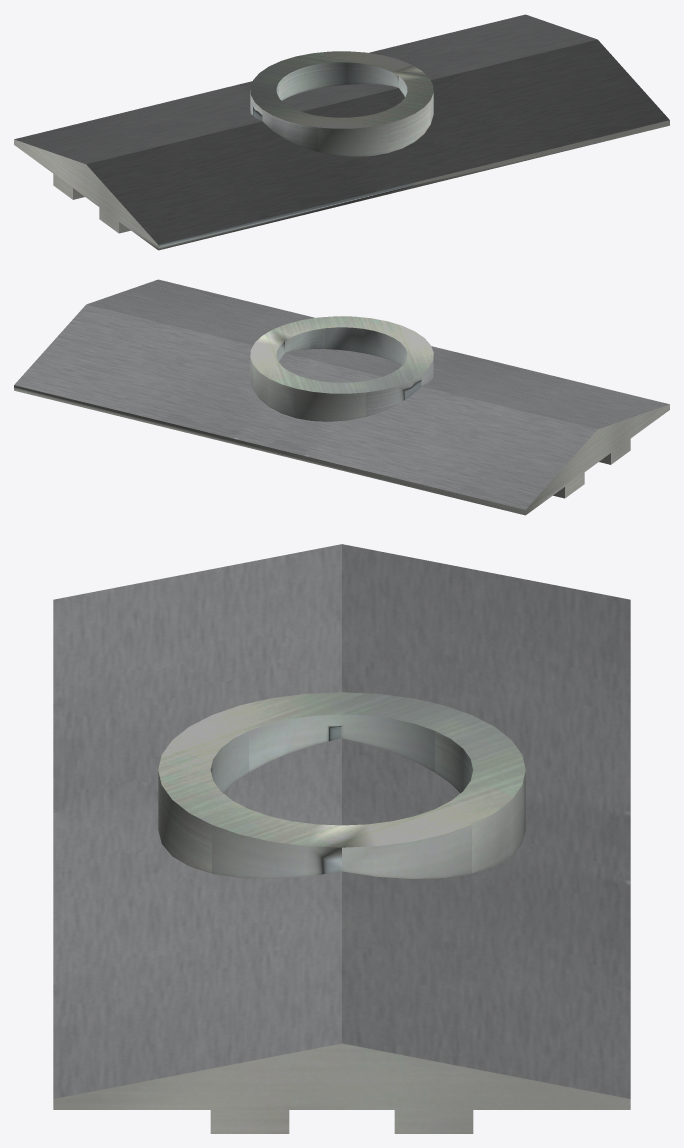
The model's file is xzhou.obj.
The picture shows the model from 3 angles, top to bottom: view 1: azimuth 30°, elevation 25°; view 2: azimuth 150°, elevation 25°; view 3: azimuth 270°, elevation 25°; orthographic projection. The views are drawn at different scales.
Parts seen in each view (by area): view 1: JCwoshi_zhouX; view 2: JCwoshi_zhouX; view 3: JCwoshi_zhouX.
Part boxes in pixels (x1=…): JCwoshi_zhouX: x1=14, y1=14, x2=669, y2=250; JCwoshi_zhouX: x1=14, y1=279, x2=669, y2=515; JCwoshi_zhouX: x1=53, y1=544, x2=630, y2=1133.
Bounding box in the file's own units: 2250 × 240 × 1099.
1 material, 1 textured.
